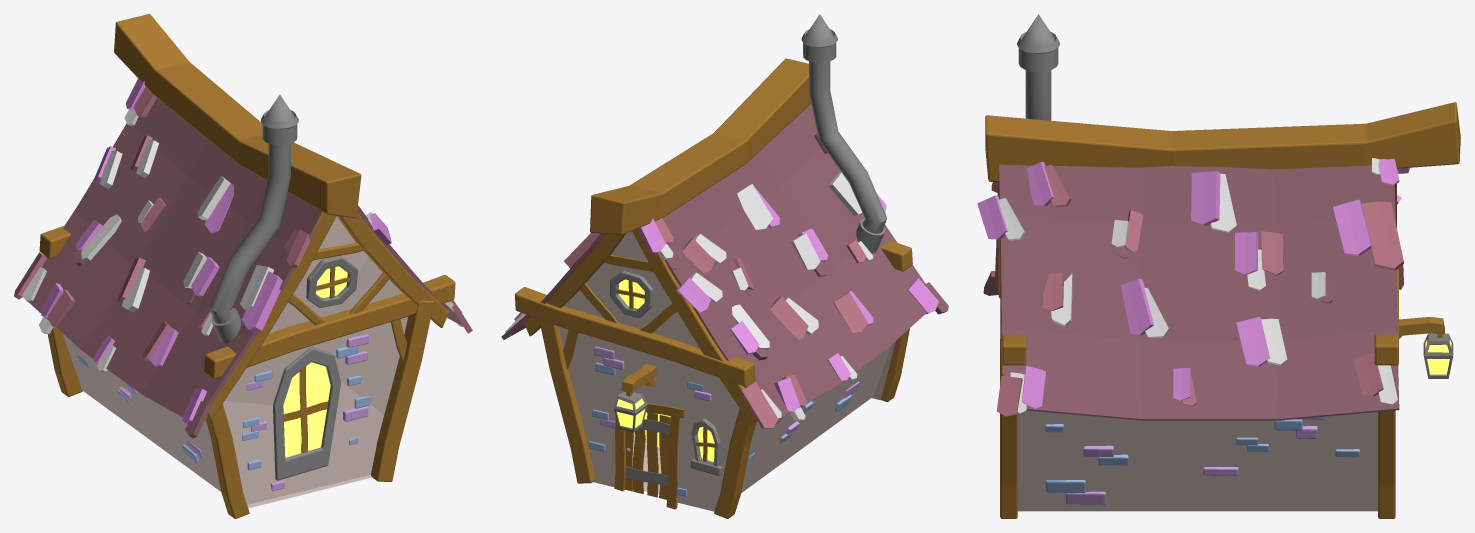
File: Exterior-house.fbx
3 renders of one model, left to right at view 1: azimuth 30°, elevation 25°; view 2: azimuth 150°, elevation 25°; view 3: azimuth 270°, elevation 25°, orthographic. The views are drawn at different scales.
Parts seen in each view (by area): view 1: Cylinder.004; view 2: Cylinder.004; view 3: Cylinder.004.
Part boxes in pixels (x1=…): Cylinder.004: x1=14, y1=14, x2=472, y2=518; Cylinder.004: x1=501, y1=14, x2=948, y2=518; Cylinder.004: x1=977, y1=14, x2=1460, y2=518.
Size of the model in its own units: 494 by 655 by 628.
